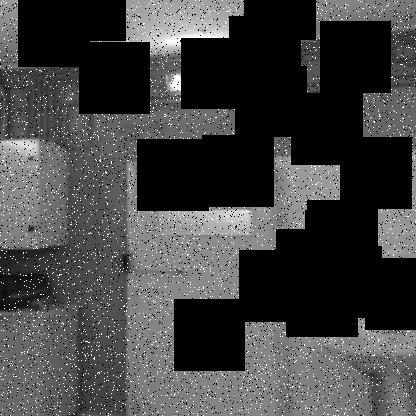Porte: (123, 154, 290, 416)
